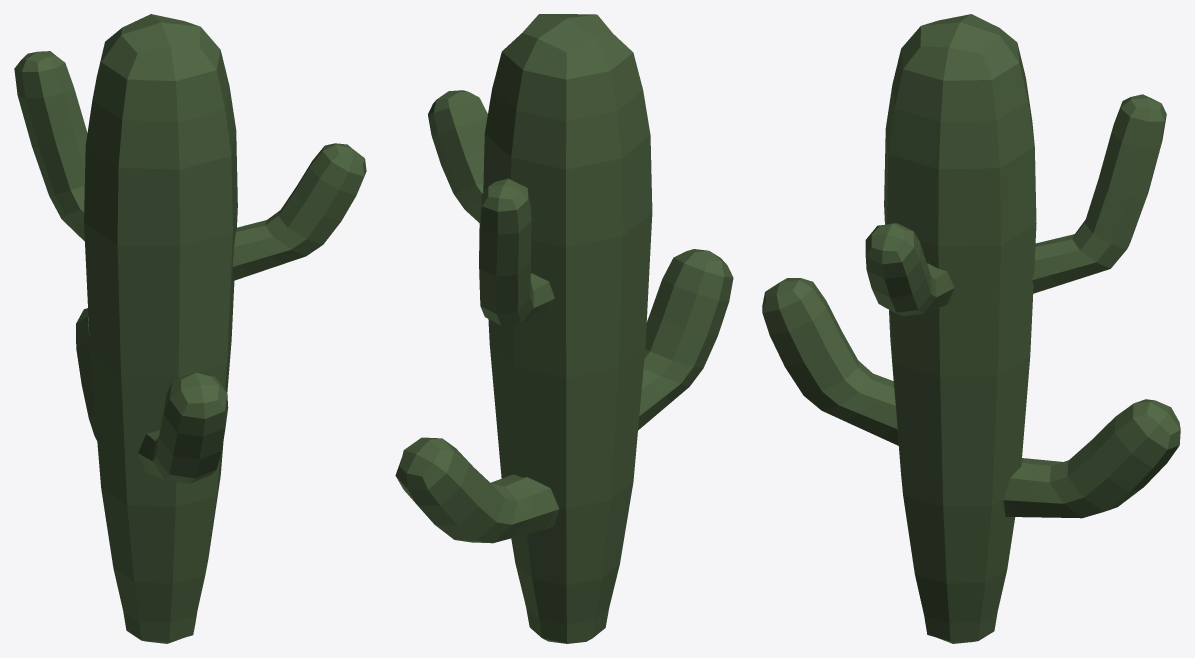
The model's file is Cactus1.glb.
3 renders of one model, left to right at view 1: azimuth 30°, elevation 25°; view 2: azimuth 150°, elevation 25°; view 3: azimuth 270°, elevation 25°, orthographic.
Parts seen in each view (by area): view 1: Cactus_2_Cube.029; view 2: Cactus_2_Cube.029; view 3: Cactus_2_Cube.029.
Part boxes in pixels (x1,y1,x2,y2): Cactus_2_Cube.029: (14, 14, 366, 643); Cactus_2_Cube.029: (395, 14, 733, 643); Cactus_2_Cube.029: (762, 14, 1180, 643).
Bounding box in the file's own units: 0.7002 × 1.7 × 1.05.
